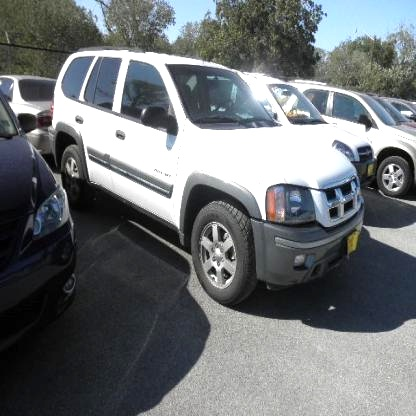Vehicle: (49, 49, 366, 314)
